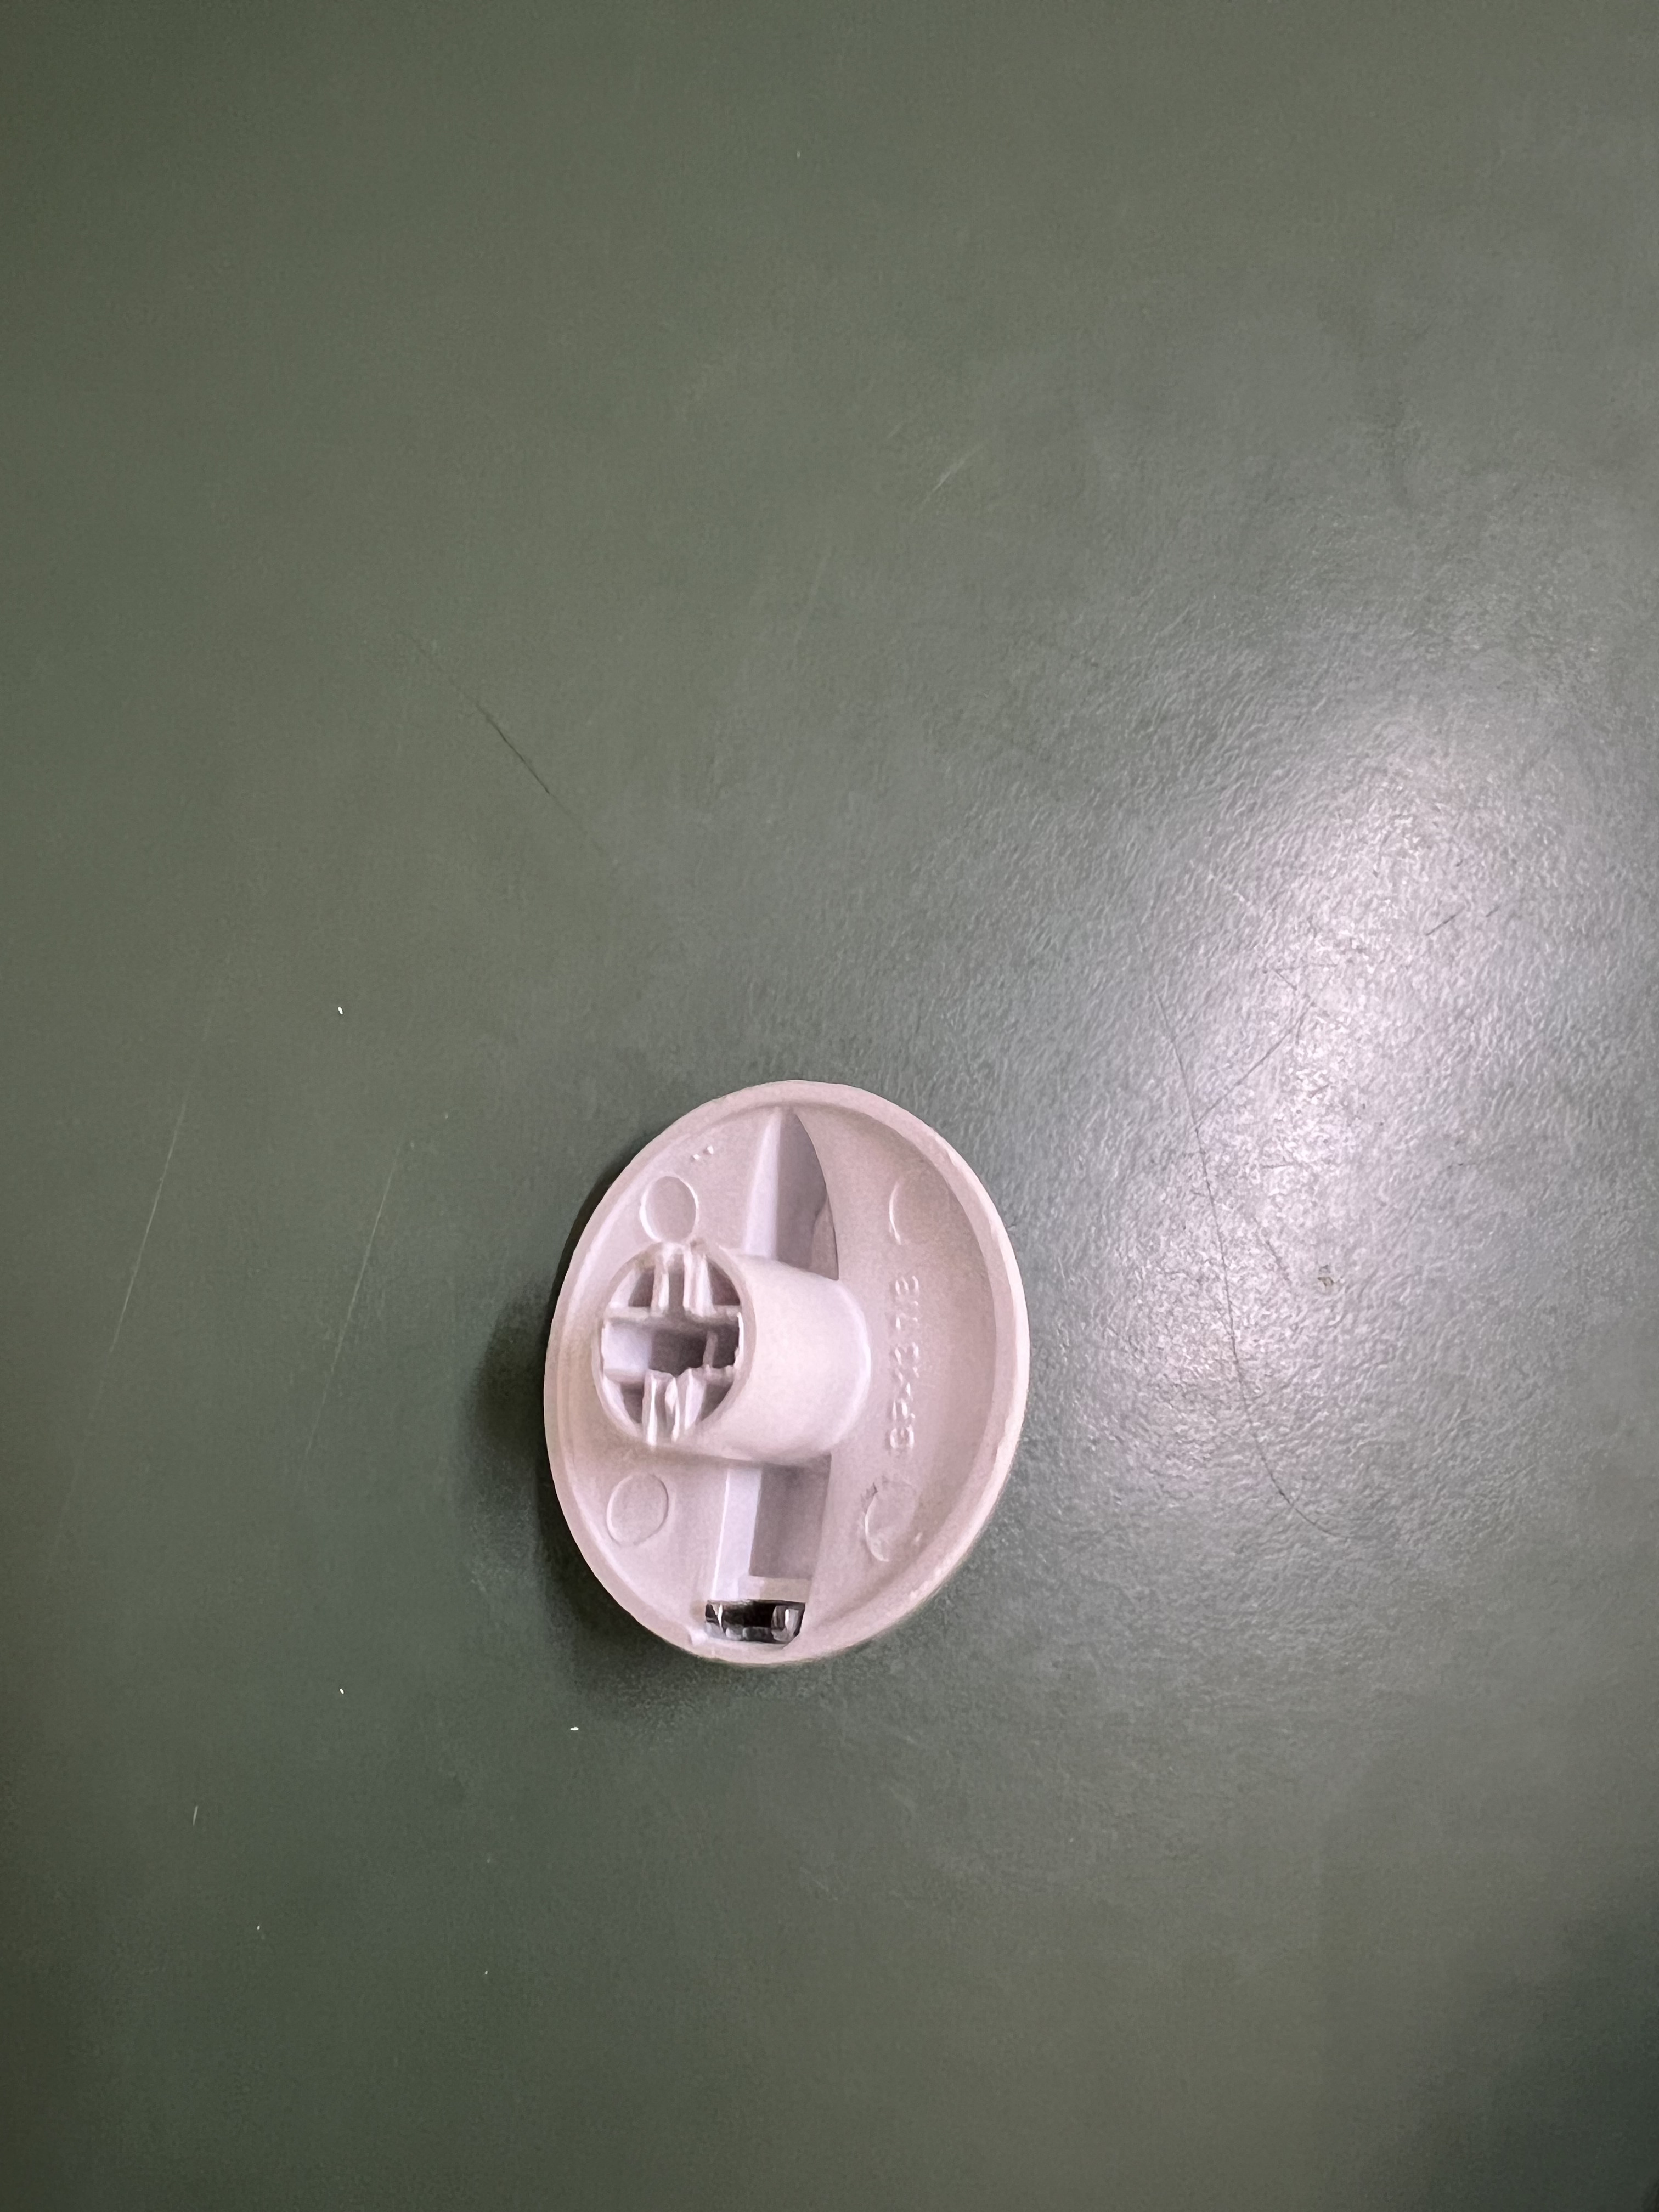regulator: (500, 1082, 1066, 1676)
